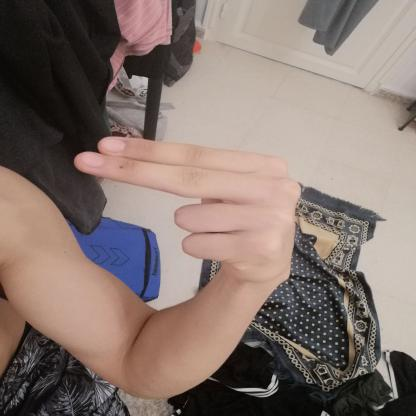AYN: (59, 121, 317, 295)
